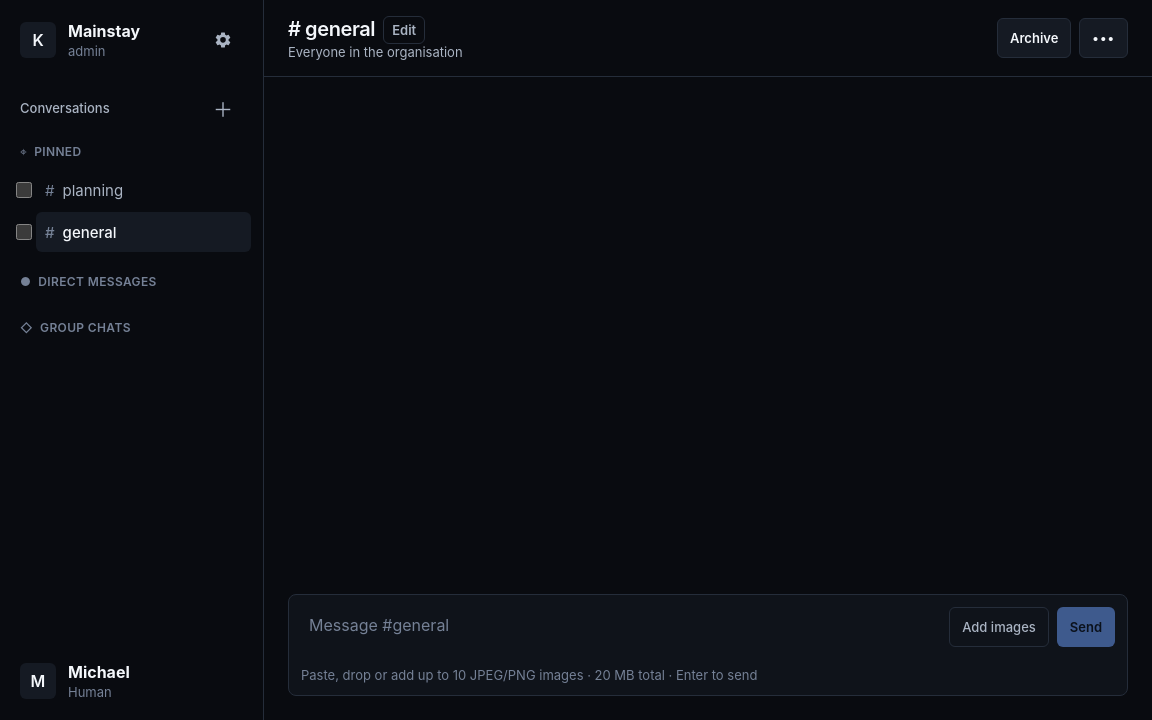
K-Mainstay UI › archives selected conversations in bulk
Click the 1st checkbox with test id "conversation-checkbox".
click(24, 190)  # box [16, 182, 32, 198]
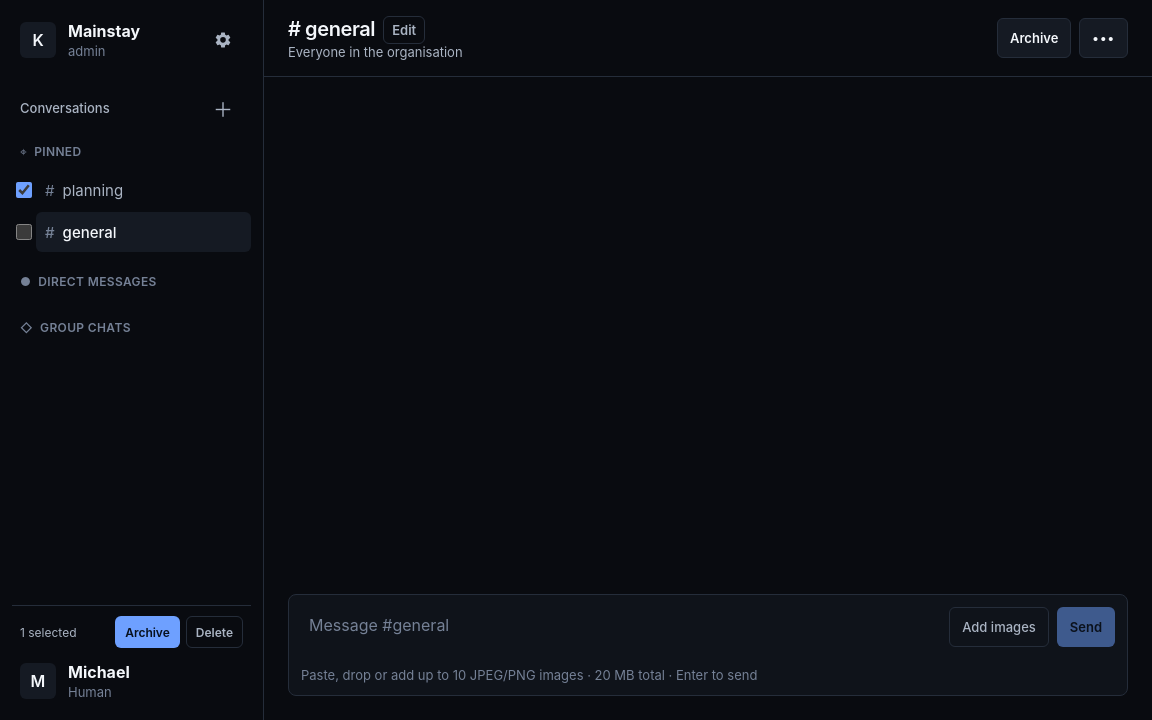
Click the 2nd checkbox with test id "conversation-checkbox".
click(24, 232)  # box [16, 224, 32, 240]
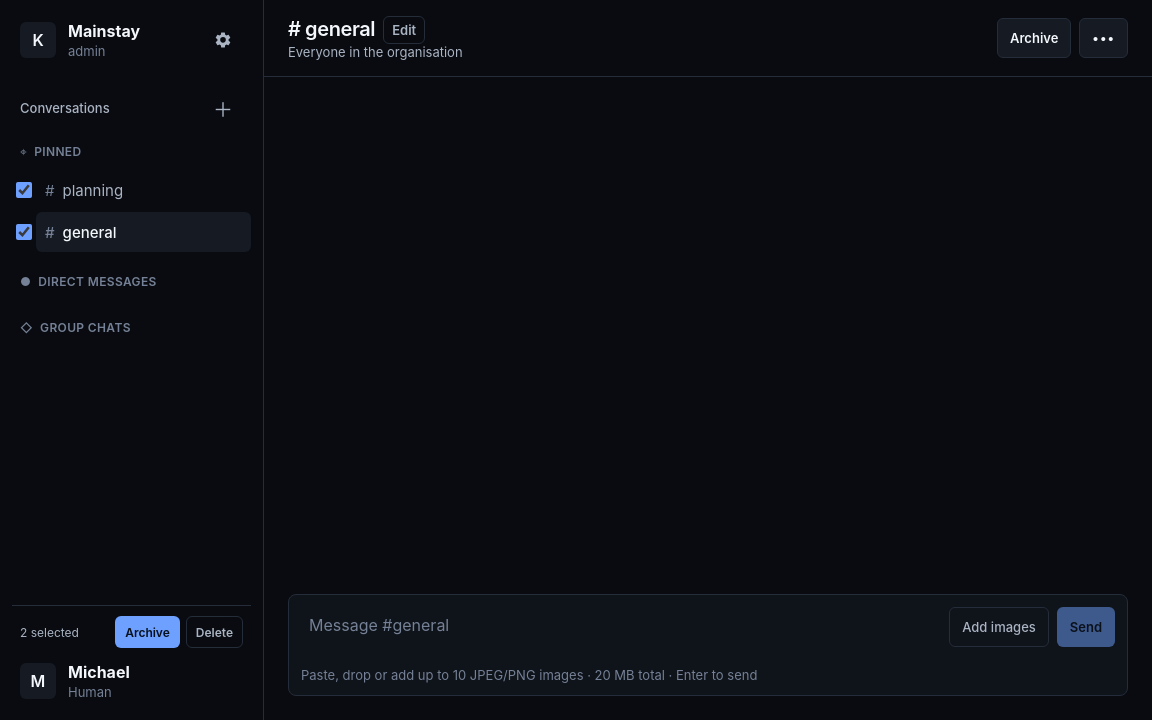
Click the button with test id "bulk-archive-conversations".
click(148, 632)  # box [115, 616, 180, 648]
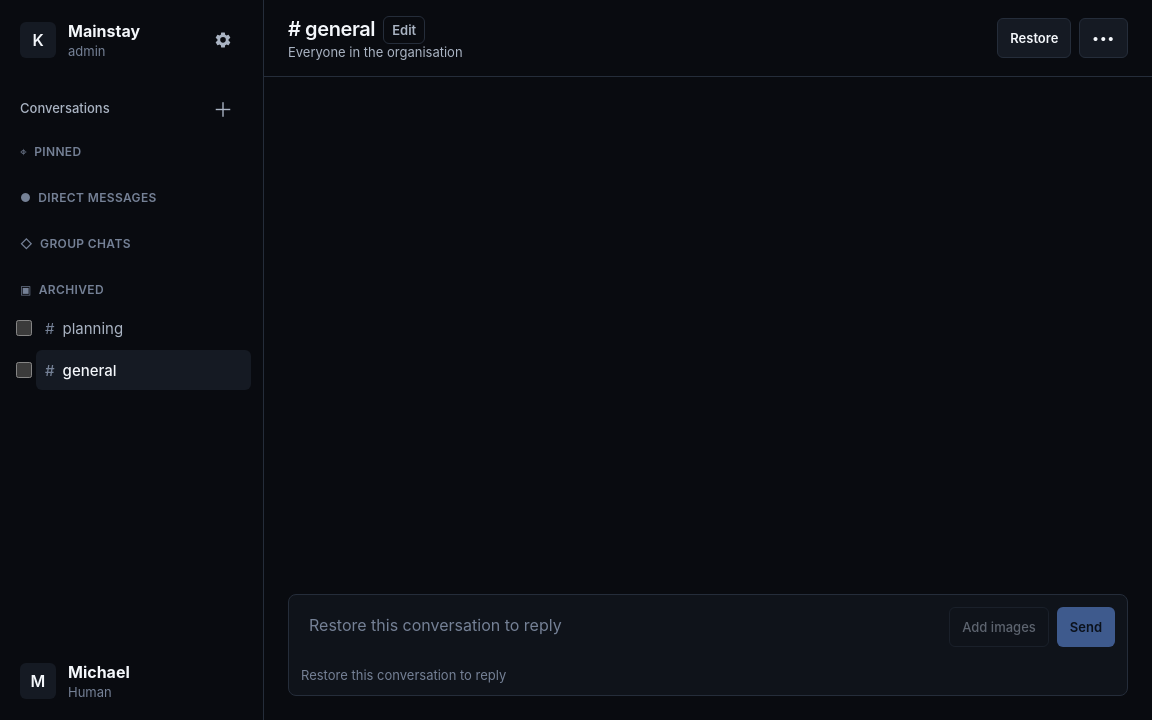
Expected: the element with test id "archived-conversations" shows "general", [36, 350, 251, 390]
Expected: the element with test id "archived-conversations" shows "planning", [36, 308, 251, 348]
